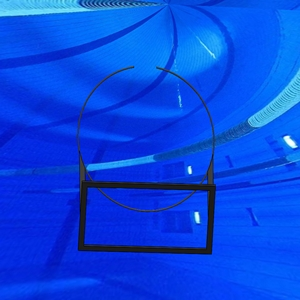circle: (76, 64, 219, 256)
